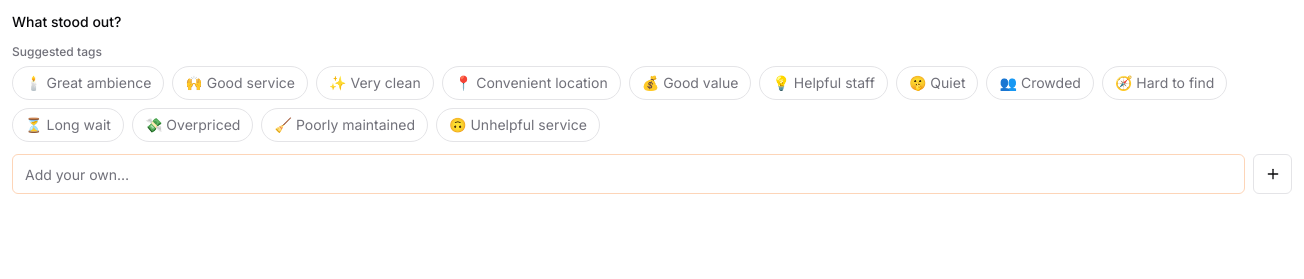
it: UnifiedTagSelector (curated adapter) › hides Selected tags until something is selected, then syncs both ways
Check: the list "Selected tags" is not shown
Click the button "🕯️Great ambience": (88, 83) [12,66,164,100]
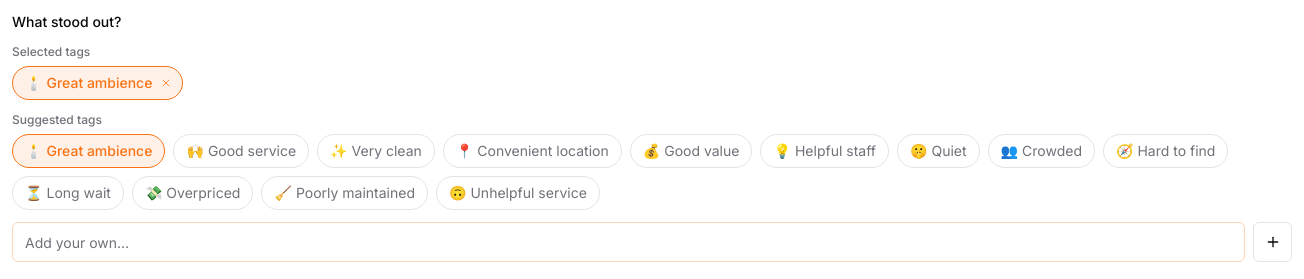
Check: the text "Great ambience" is shown, box [46,73,152,93]
Click the button named "Remove Great ambience": (166, 83) [158,75,174,91]
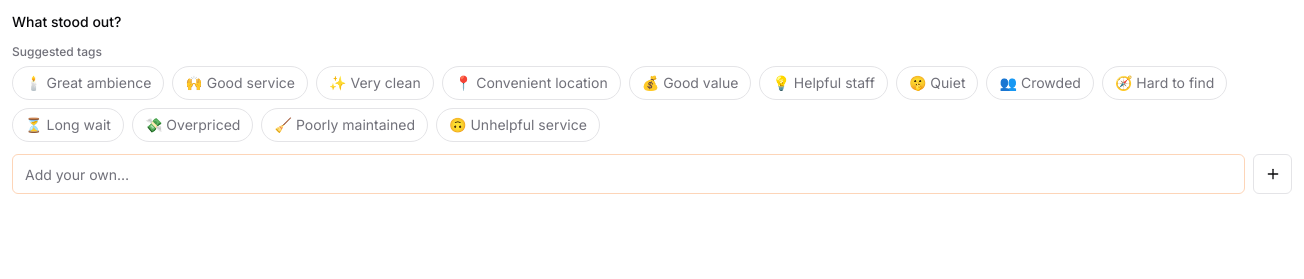
Check: the text "Selected tags" is gone
